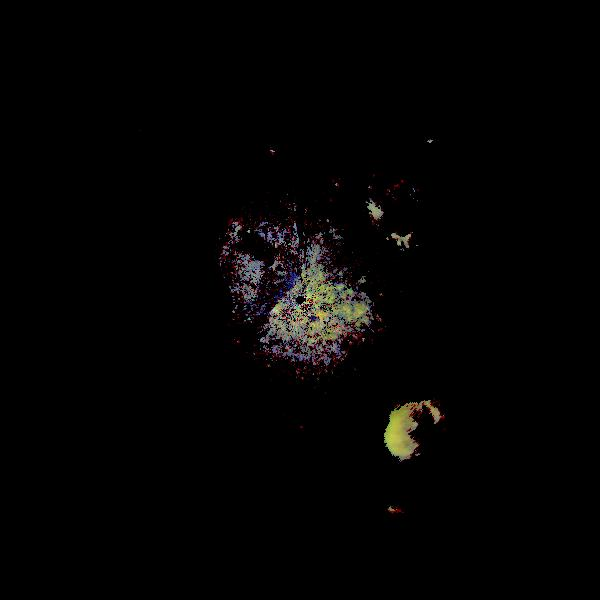roost: (375, 389, 468, 482)
